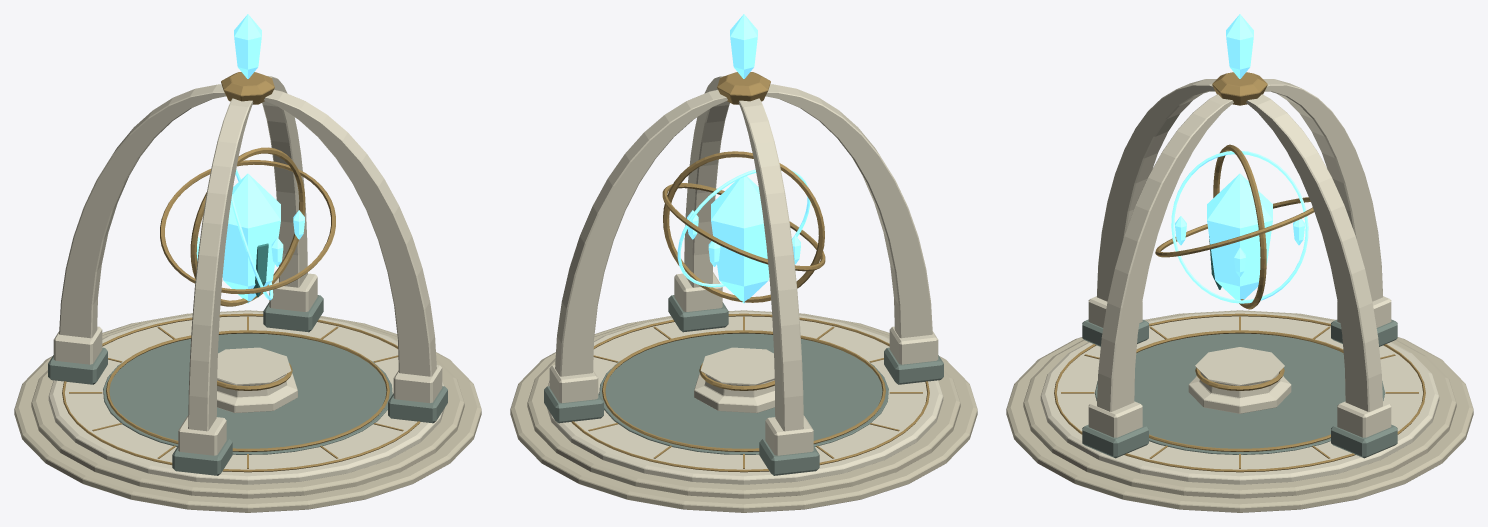
File: sanctuary_blue.glb
The picture shows the model from 3 angles, left to right: view 1: azimuth 30°, elevation 25°; view 2: azimuth 150°, elevation 25°; view 3: azimuth 270°, elevation 25°; orthographic projection.
Visible parts, largest first — view 1: sanctuary_blue / mesh; view 2: sanctuary_blue / mesh; view 3: sanctuary_blue / mesh.
Part boxes in pixels (box(x1,y1,x2,y2)): sanctuary_blue / mesh: box(14, 14, 481, 512); sanctuary_blue / mesh: box(510, 14, 977, 512); sanctuary_blue / mesh: box(1006, 14, 1473, 512).
Size of the model in its own units: 19 by 17.95 by 19.
